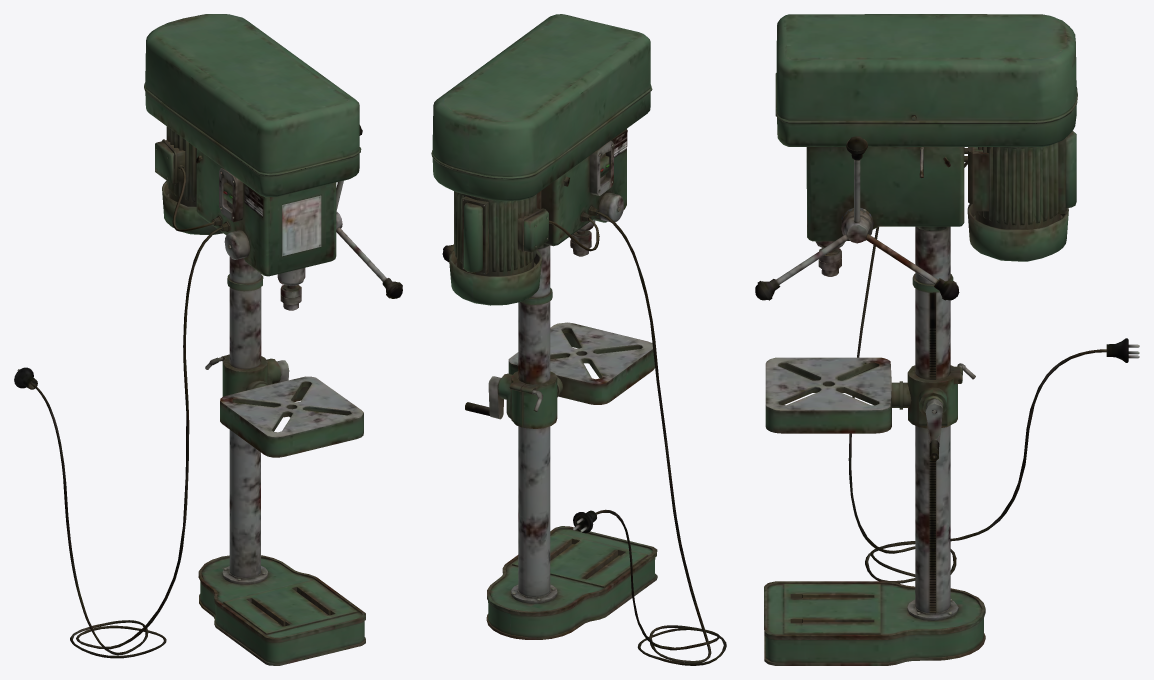
File: old_drill_press.663f9845.glb
The picture shows the model from 3 angles, left to right: view 1: azimuth 30°, elevation 25°; view 2: azimuth 150°, elevation 25°; view 3: azimuth 270°, elevation 25°; orthographic projection. The views are drawn at different scales.
Visible parts, largest first — view 1: old_drill_press, old_drill_press_cable; view 2: old_drill_press, old_drill_press_cable; view 3: old_drill_press, old_drill_press_cable.
Part boxes in pixels (left/top/right/bottom): old_drill_press: left=144, top=14, right=402, bottom=665; old_drill_press_cable: left=14, top=167, right=221, bottom=658; old_drill_press: left=431, top=14, right=657, bottom=639; old_drill_press_cable: left=549, top=211, right=726, bottom=665; old_drill_press: left=755, top=14, right=1077, bottom=665; old_drill_press_cable: left=848, top=162, right=1139, bottom=583.
Size of the model in its own units: 0.5018 by 1 by 0.5796.
1 material, 1 textured.
